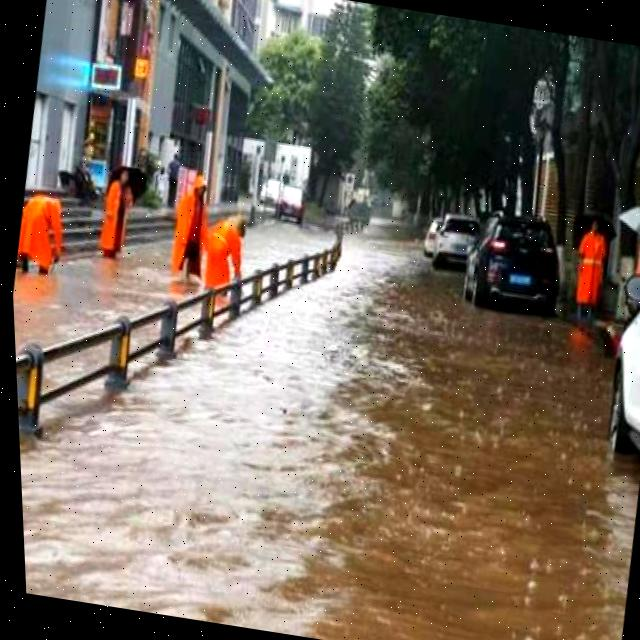rescuer: (84, 161, 156, 276), (561, 208, 624, 334), (12, 172, 76, 286), (162, 168, 225, 276), (193, 208, 262, 300)
